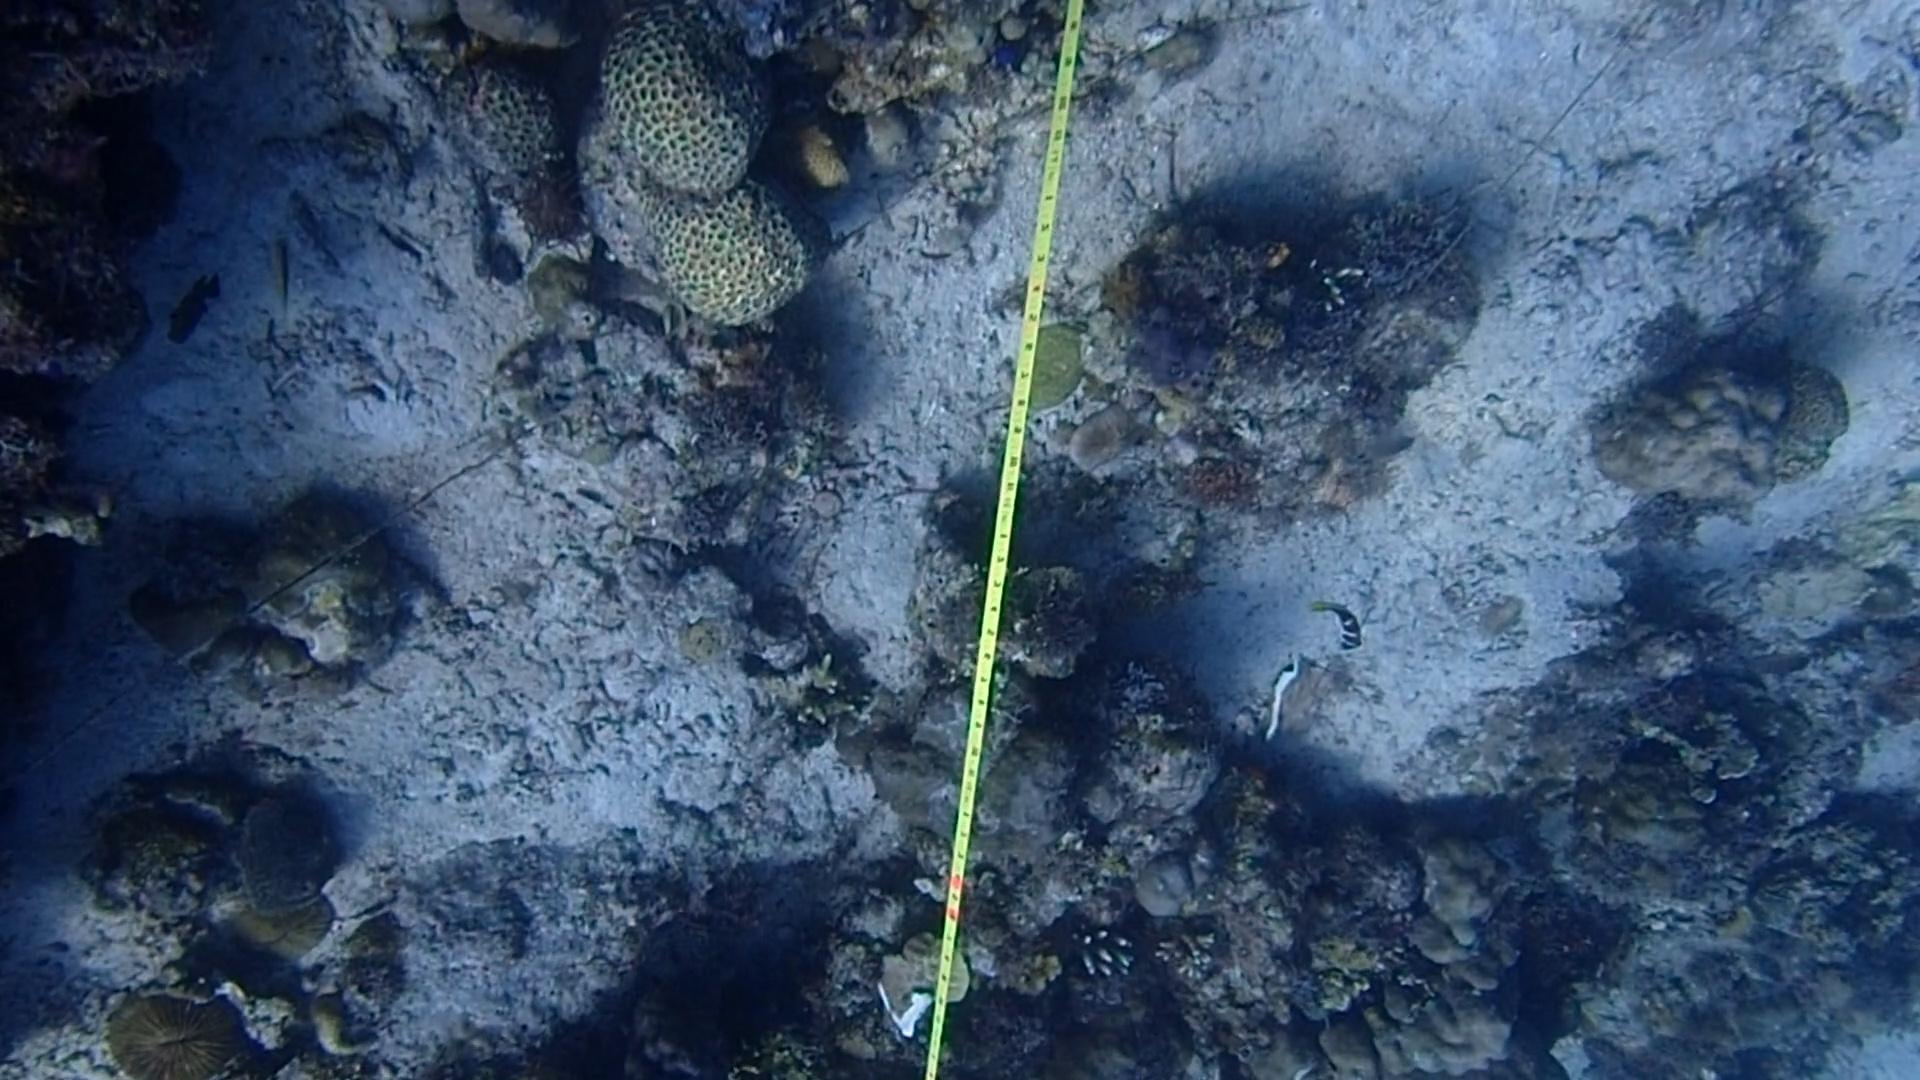Striped Fish: (1308, 593, 1373, 654)
